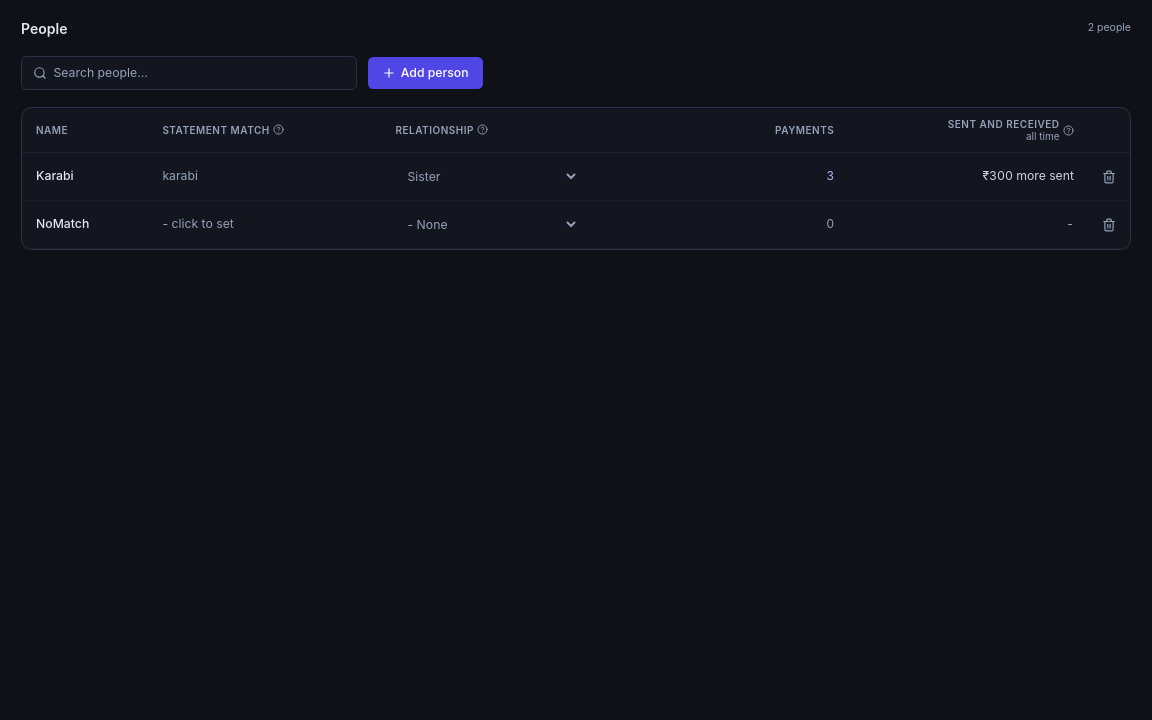
Test: People › opens the add-person modal instead of an inline form
Check: the text "Karabi" is shown, box [22,152,148,200]
Check: the text "Add a person" is not shown
Click the button "Add person". click: (425, 73)
box: [368,57,483,88]
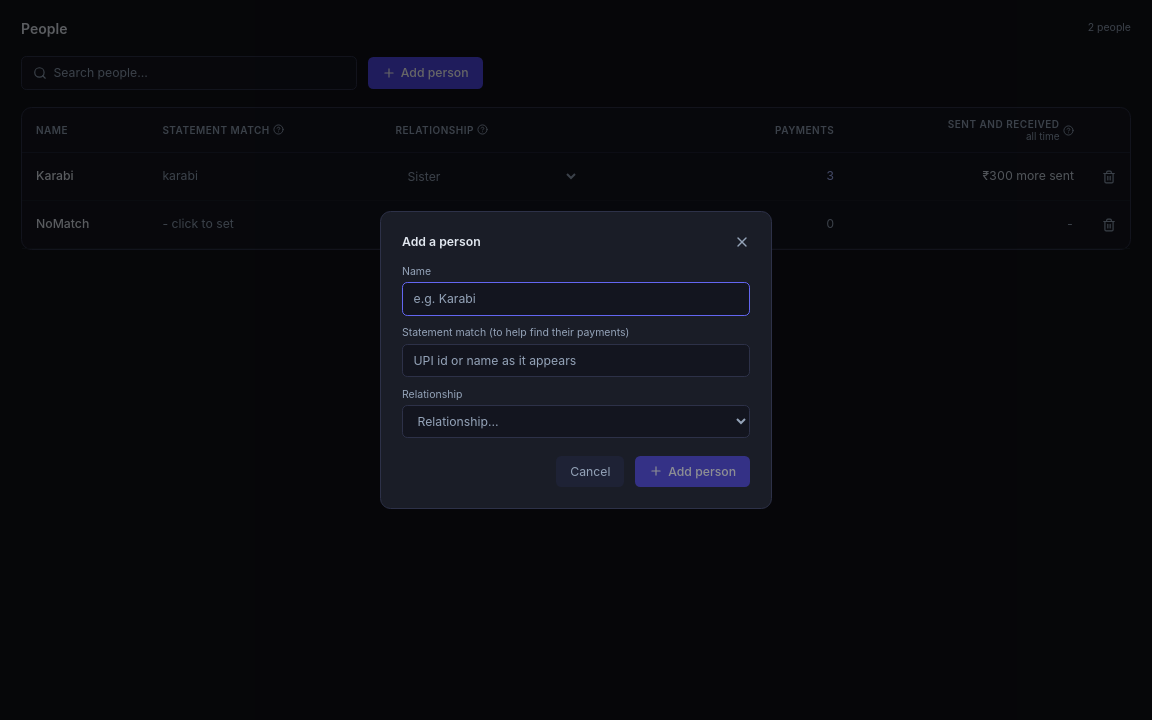
Check: the heading "Add a person" is shown, box [402,233,481,250]
